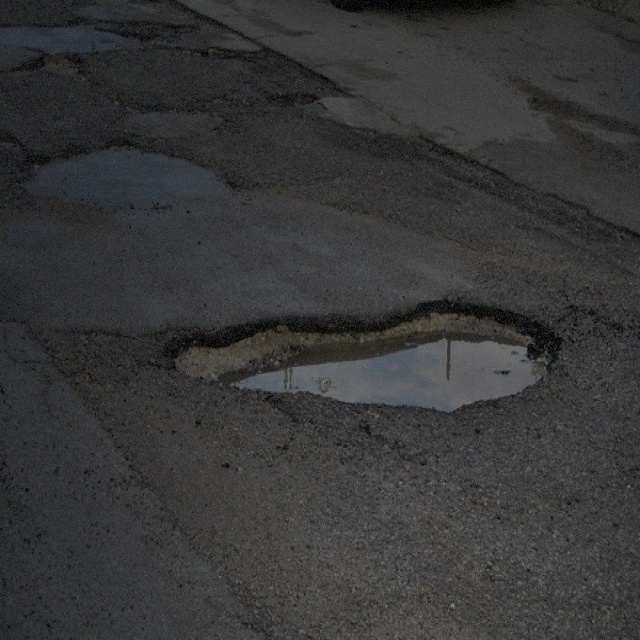pothole: (164, 268, 561, 436), (30, 132, 239, 226), (10, 12, 152, 66), (198, 34, 268, 66), (264, 80, 321, 110)
